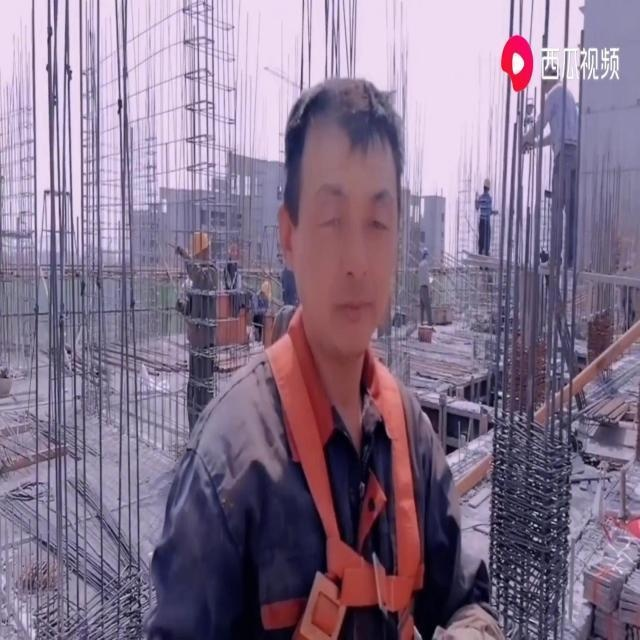Arnes_seguridad: (250, 306, 435, 640)
